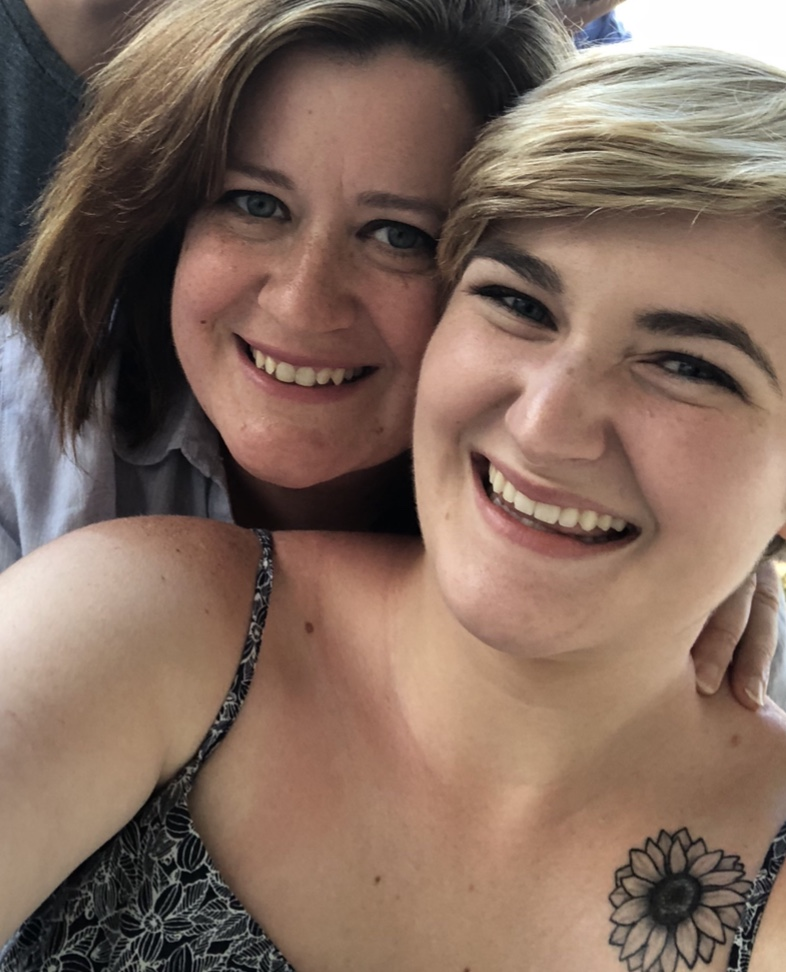bare: (410, 374, 777, 658), (181, 221, 432, 488)
